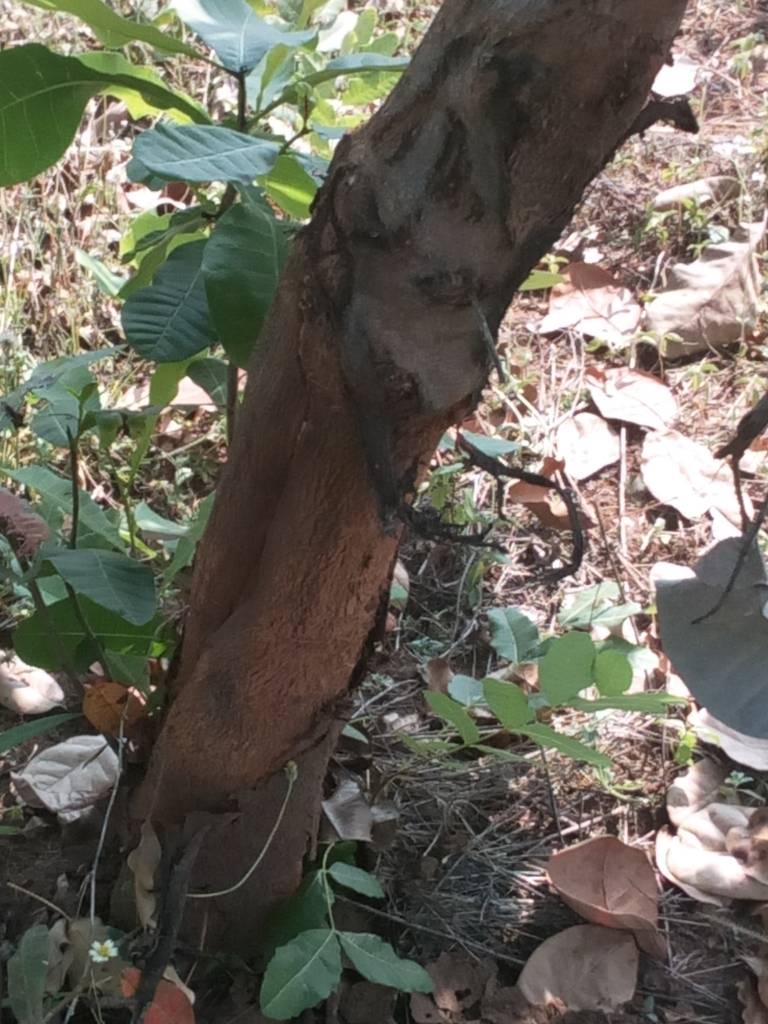ploceadorus ferrugineus: (129, 162, 516, 828)
